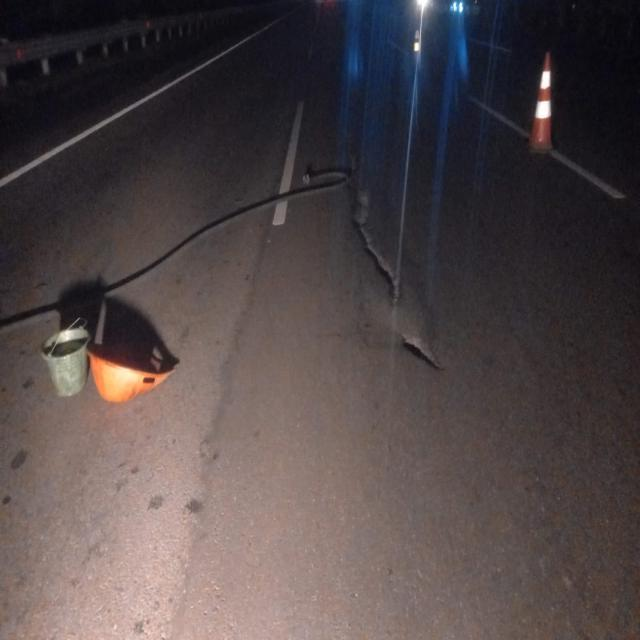Buraco: (345, 185, 405, 310), (395, 331, 447, 374)
